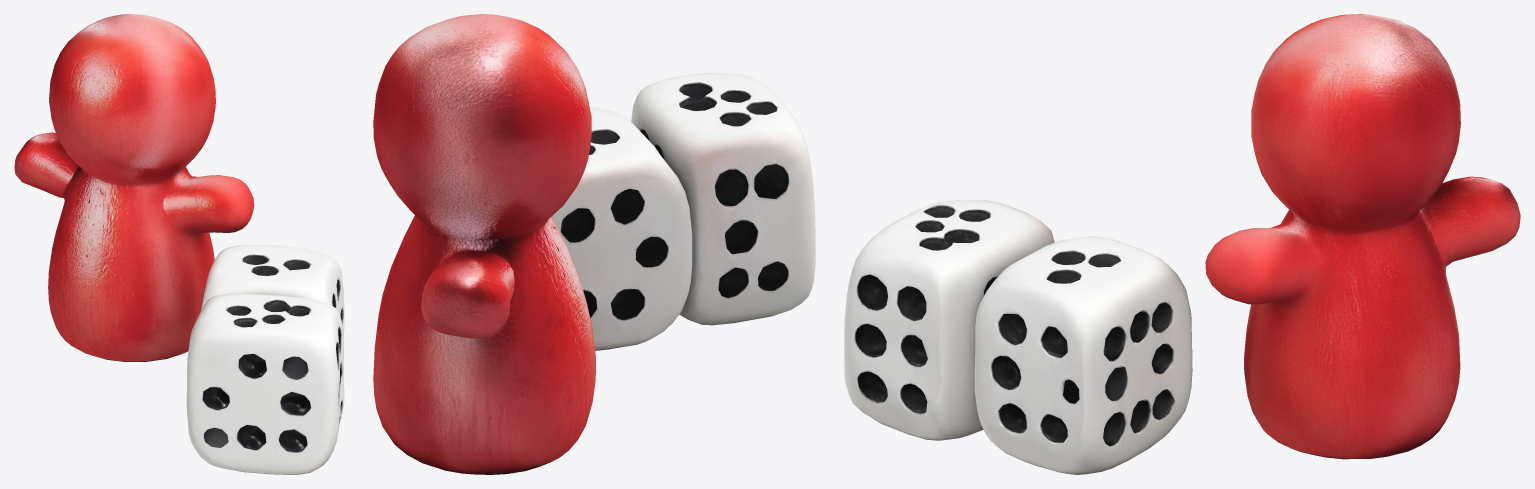
The model's file is meeple.glb.
3 views of the same model, side by side, from view 1: azimuth 30°, elevation 25°; view 2: azimuth 150°, elevation 25°; view 3: azimuth 270°, elevation 25° (orthographic). The views are drawn at different scales.
Parts seen in each view (by area): view 1: model; view 2: model; view 3: model.
Boxes of the visible parts, left/top/right/bottom form: model: left=14, top=14, right=344, bottom=474; model: left=373, top=14, right=815, bottom=474; model: left=844, top=14, right=1520, bottom=474.
Size of the model in its own units: 0.8459 by 1.24 by 1.9.
Materials: 1 (1 with a texture image).
